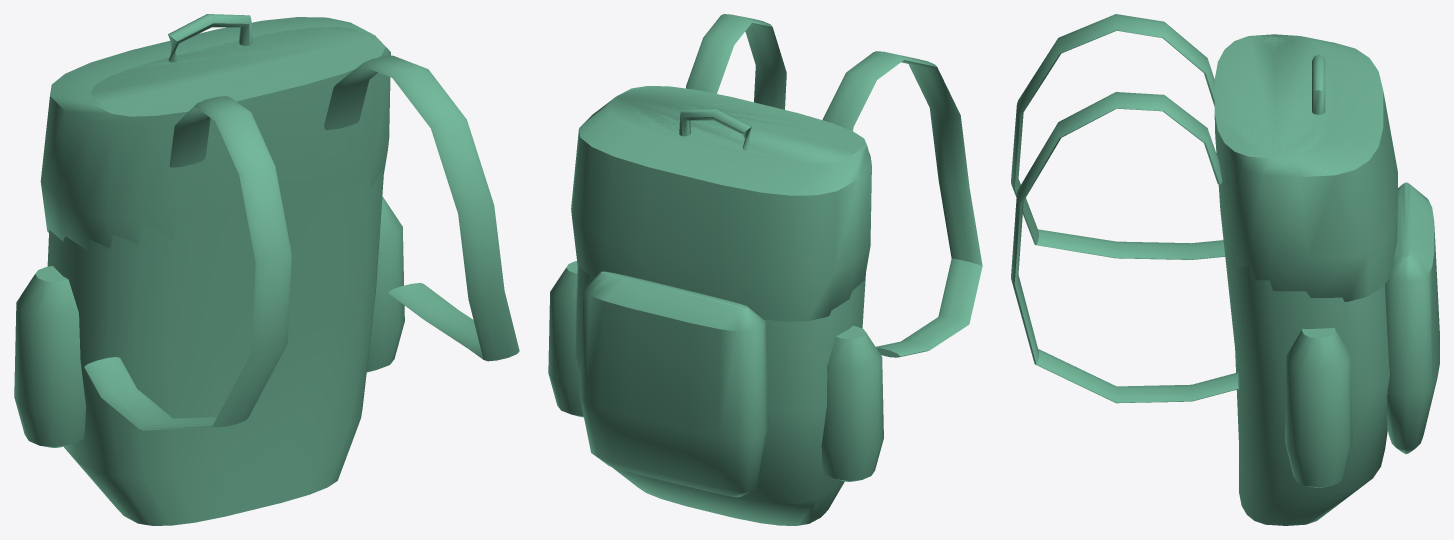
The model's file is Char_Backpack.fbx.
The picture shows the model from 3 angles, left to right: view 1: azimuth 30°, elevation 25°; view 2: azimuth 150°, elevation 25°; view 3: azimuth 270°, elevation 25°; orthographic projection. The views are drawn at different scales.
Parts seen in each view (by area): view 1: Char_Backpack; view 2: Char_Backpack; view 3: Char_Backpack.
Part boxes in pixels (x1,y1,x2,y2): Char_Backpack: (14,14,519,525); Char_Backpack: (548,14,982,525); Char_Backpack: (1011,14,1439,525).
Bounding box in the file's own units: 0.42 × 0.4947 × 0.4555.
